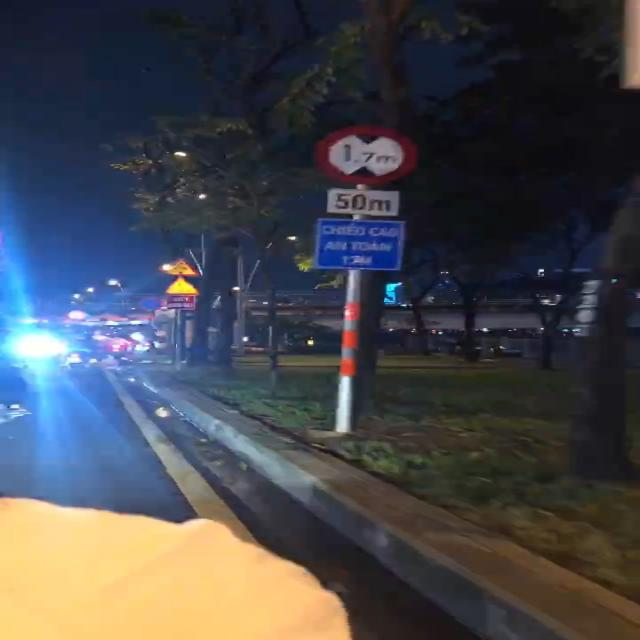Bien bao han che chieu cao: (311, 115, 435, 187)
